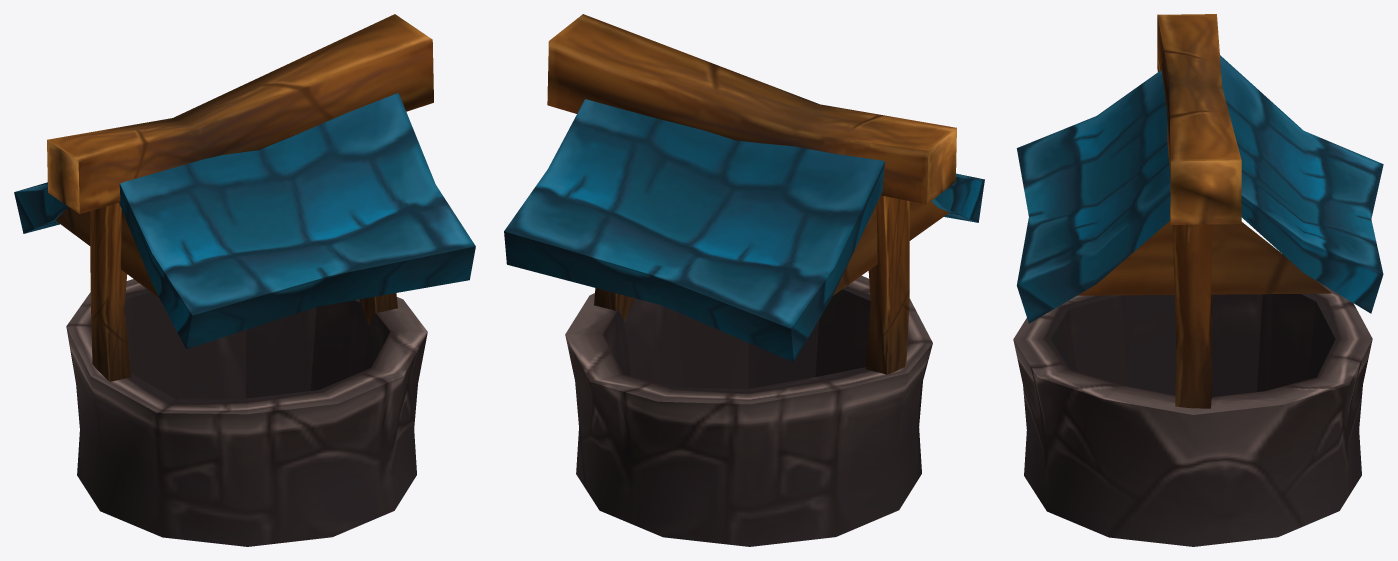
File: well_2.fbx
3 views of the same model, side by side, from view 1: azimuth 30°, elevation 25°; view 2: azimuth 150°, elevation 25°; view 3: azimuth 270°, elevation 25° (orthographic). The views are drawn at different scales.
Parts seen in each view (by area): view 1: well_2; view 2: well_2; view 3: well_2.
Boxes of the visible parts, x1,y1,x2,y2 form: well_2: [14, 14, 475, 546]; well_2: [504, 14, 984, 546]; well_2: [1013, 14, 1383, 546].
Bounding box in the file's own units: 3.04 × 3.21 × 2.7.
